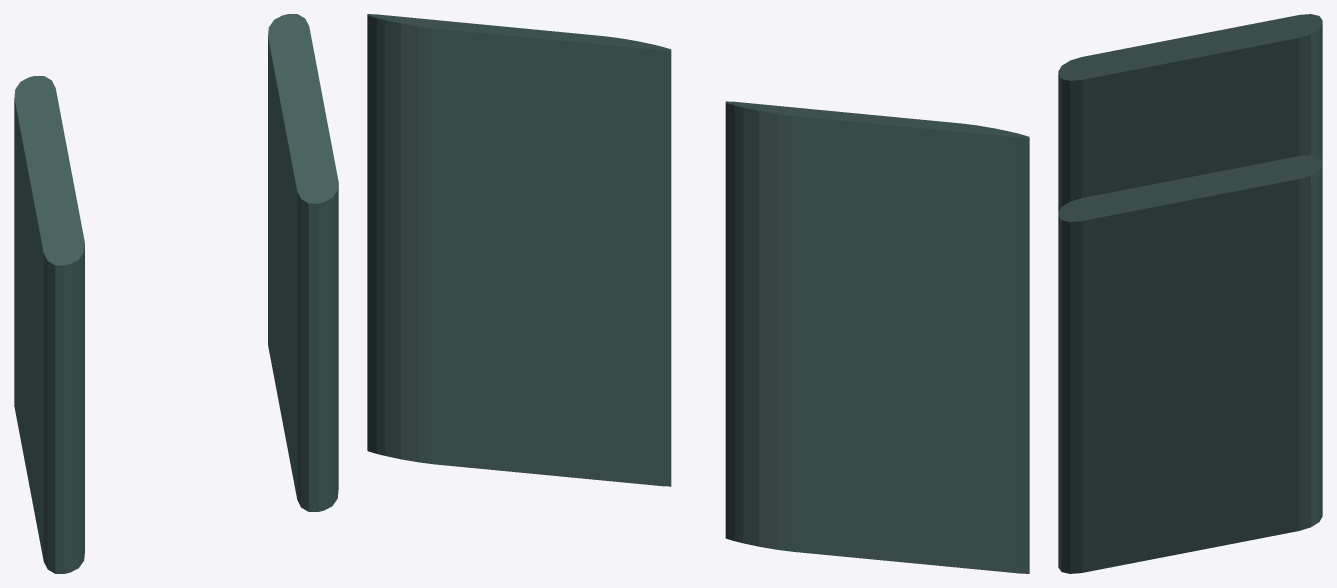
File: Door_Jamb.gltf
3 views of the same model, side by side, from view 1: azimuth 30°, elevation 25°; view 2: azimuth 150°, elevation 25°; view 3: azimuth 270°, elevation 25° (orthographic). The views are drawn at different scales.
Visible parts, largest first — view 1: Door_Jamb_baked; view 2: Door_Jamb_baked; view 3: Door_Jamb_baked.
Boxes of the visible parts, x1=… form: Door_Jamb_baked: x1=14, y1=14, x2=338, y2=573; Door_Jamb_baked: x1=367, y1=14, x2=1029, y2=573; Door_Jamb_baked: x1=1058, y1=14, x2=1322, y2=573.
Bounding box in the file's own units: 1.23 × 1.27 × 0.68.
